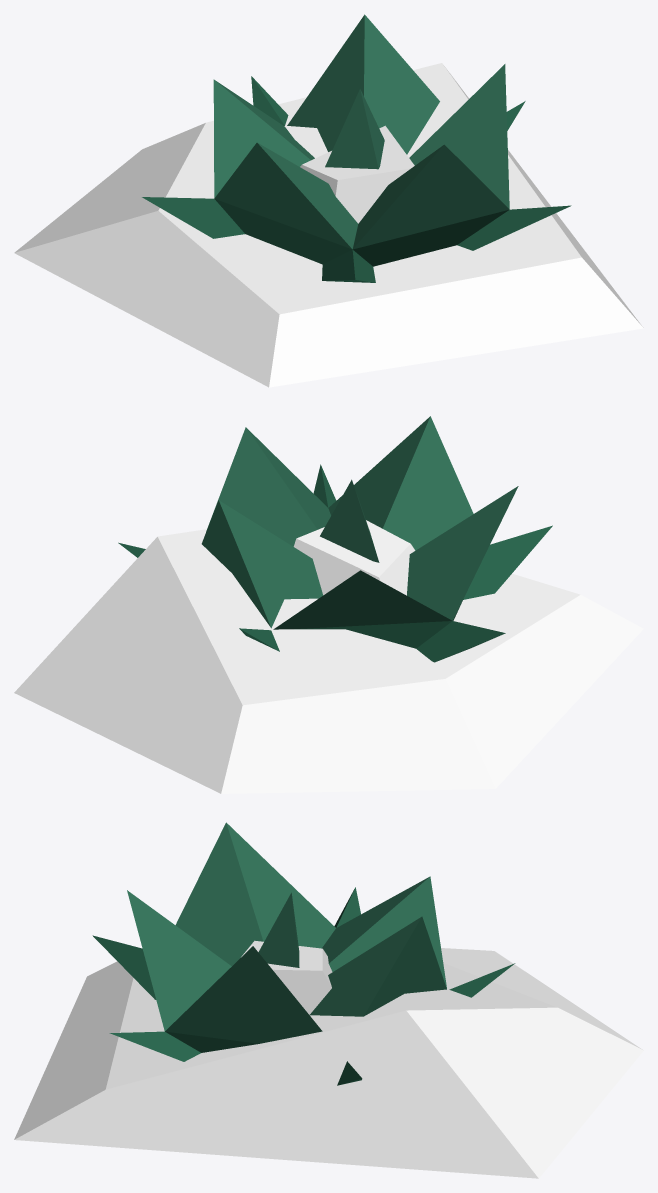
The model's file is BushWinter5_Alt2.fbx.
3 renders of one model, top to bottom at view 1: azimuth 30°, elevation 25°; view 2: azimuth 150°, elevation 25°; view 3: azimuth 270°, elevation 25°, orthographic.
Visible parts, largest first — view 1: BushWinter5_Alt2; view 2: BushWinter5_Alt2; view 3: BushWinter5_Alt2.
Part boxes in pixels (x1,y1,x2,y2): BushWinter5_Alt2: (14,14,643,387); BushWinter5_Alt2: (14,416,643,793); BushWinter5_Alt2: (14,822,643,1178).
Size of the model in its own units: 0.9251 by 0.3591 by 1.08.
